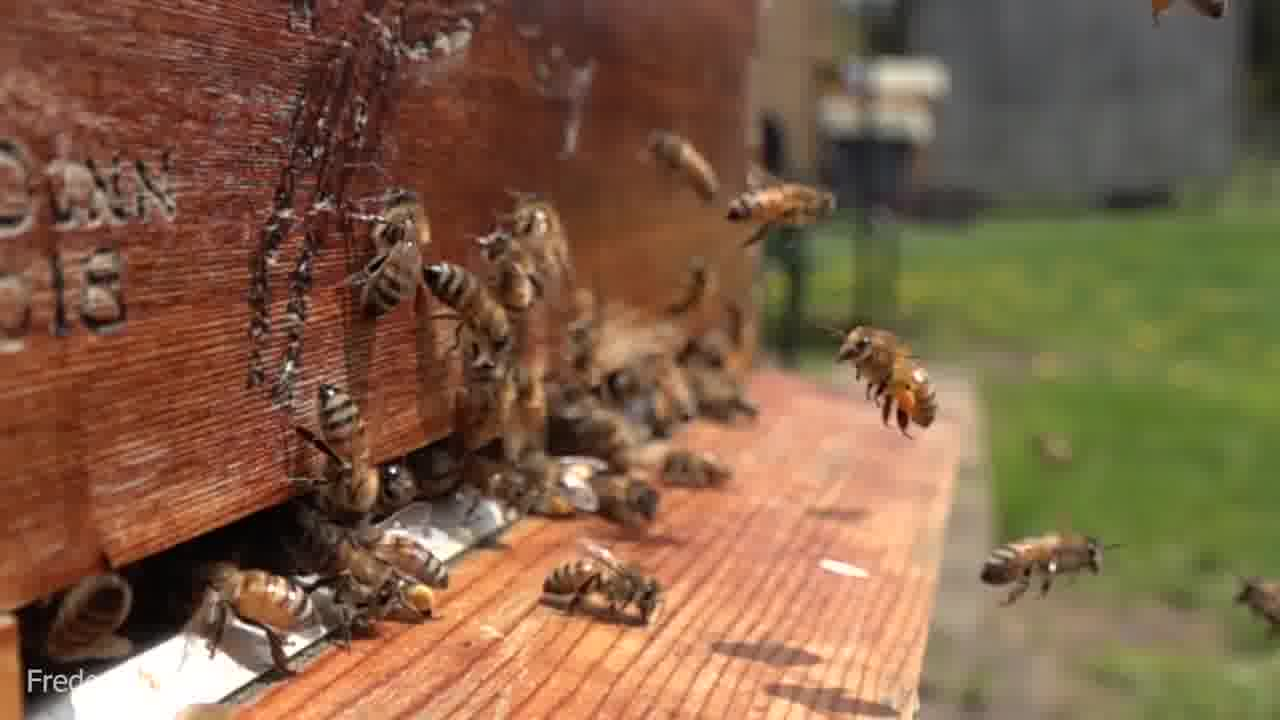pollen: (831, 319, 947, 449)
